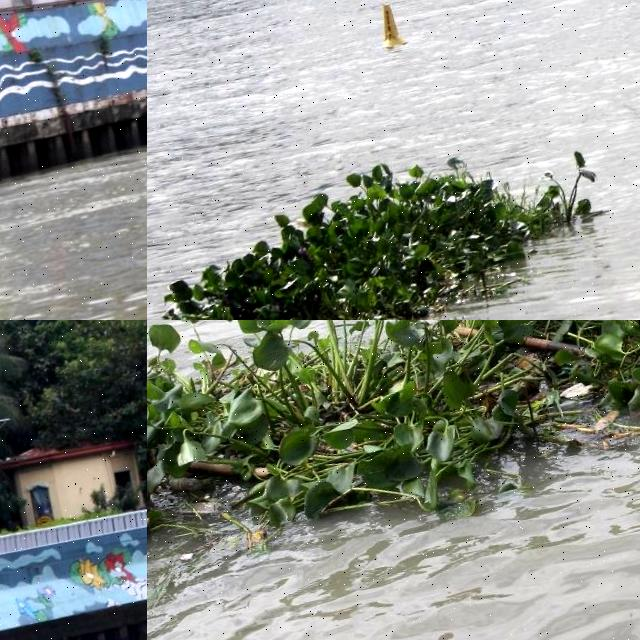water-hyacinth: (148, 321, 640, 608), (148, 122, 625, 321)
